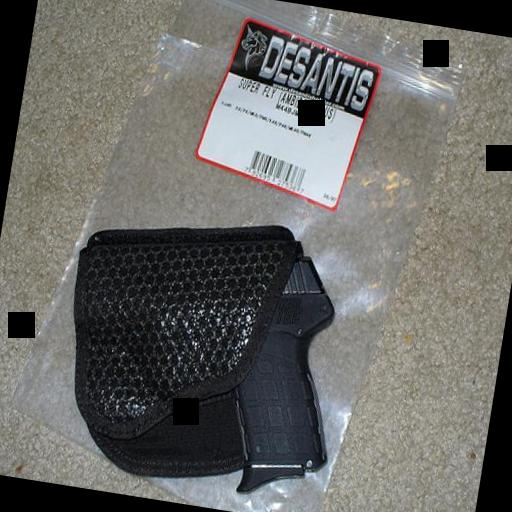Handgun: (17, 198, 364, 490)
